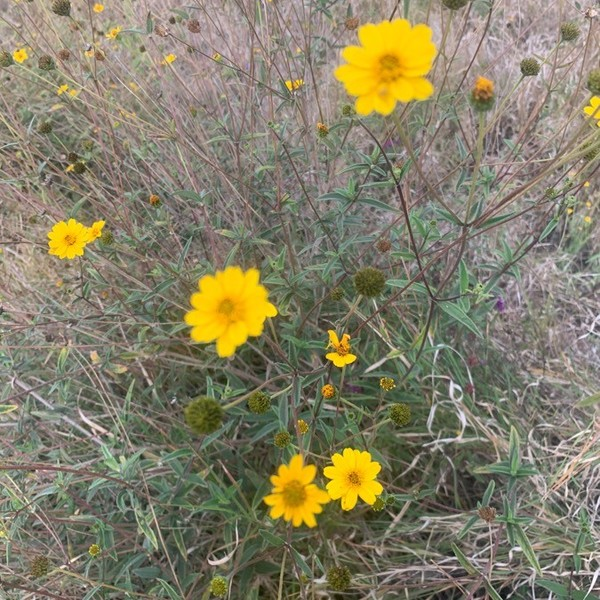obstacle: (165, 253, 389, 553)
